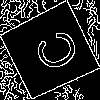C: (24, 26, 81, 79)
